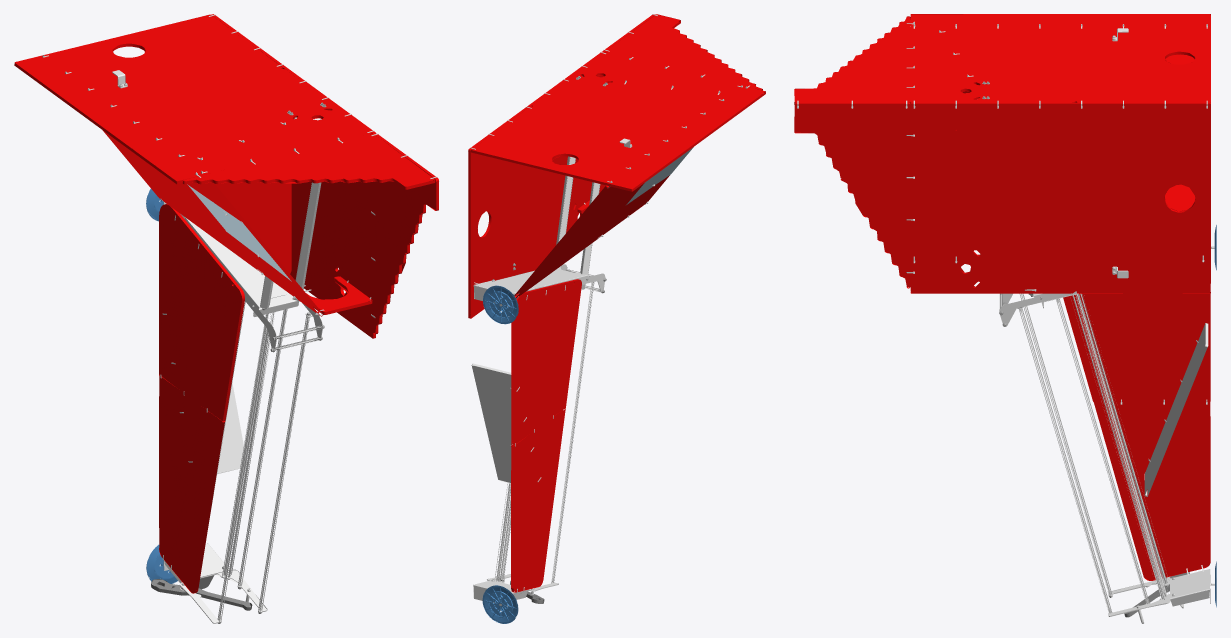
File: red-goal.glb
3 views of the same model, side by side, from view 1: azimuth 30°, elevation 25°; view 2: azimuth 150°, elevation 25°; view 3: azimuth 270°, elevation 25° (orthographic). The views are drawn at different scales.
Visible parts, largest first — view 1: Lower Ramp Blocker, Red - am-5731_red, Cable Tie 2 - Cable Tie 11 in. - am-1631_natural, Red Goal AprilTag Sticker - am-5707_id24, Molded Under Tile Disk - am-5422, mesh2010_mesh; view 2: Lower Ramp Blocker, Red - am-5731_red, Cable Tie 2 - Cable Tie 11 in. - am-1631_natural, Molded Under Tile Disk - am-5422, Red Goal AprilTag Sticker - am-5707_id24; view 3: Lower Ramp Blocker, Red - am-5731_red, Cable Tie 2 - Cable Tie 11 in. - am-1631_natural.
Boxes of the visible parts, x1,y1,x2,y2 form: Lower Ramp Blocker, Red - am-5731_red: (14, 14, 438, 593); Cable Tie 2 - Cable Tie 11 in. - am-1631_natural: (42, 14, 439, 623); Red Goal AprilTag Sticker - am-5707_id24: (187, 184, 291, 281); Molded Under Tile Disk - am-5422: (146, 189, 177, 583); mesh2010_mesh: (151, 579, 252, 610); Lower Ramp Blocker, Red - am-5731_red: (468, 14, 765, 592); Cable Tie 2 - Cable Tie 11 in. - am-1631_natural: (470, 14, 749, 606); Molded Under Tile Disk - am-5422: (482, 285, 518, 623); Red Goal AprilTag Sticker - am-5707_id24: (626, 147, 693, 204); Lower Ramp Blocker, Red - am-5731_red: (794, 14, 1210, 580); Cable Tie 2 - Cable Tie 11 in. - am-1631_natural: (797, 21, 1210, 622).
Size of the model in its own units: 0.7301 by 1.92 by 1.38.
